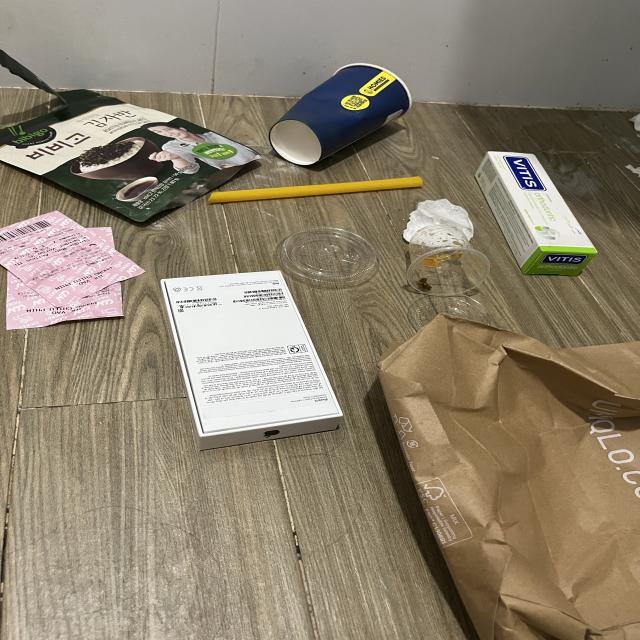bag: (379, 312, 640, 640)
cardboard box: (161, 270, 343, 457), (475, 150, 598, 276)
drinking straw: (207, 174, 424, 203)
lid: (281, 228, 379, 284), (411, 293, 494, 334)
napkin: (402, 198, 474, 247)
paper: (0, 210, 148, 332)
plastic glass: (270, 64, 413, 164), (406, 226, 492, 296)
snack package: (0, 49, 262, 224)
